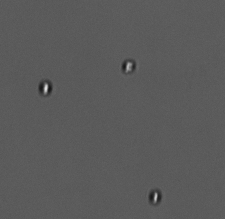Living Cell: (36, 78, 53, 97), (119, 57, 137, 74), (148, 188, 161, 206)
